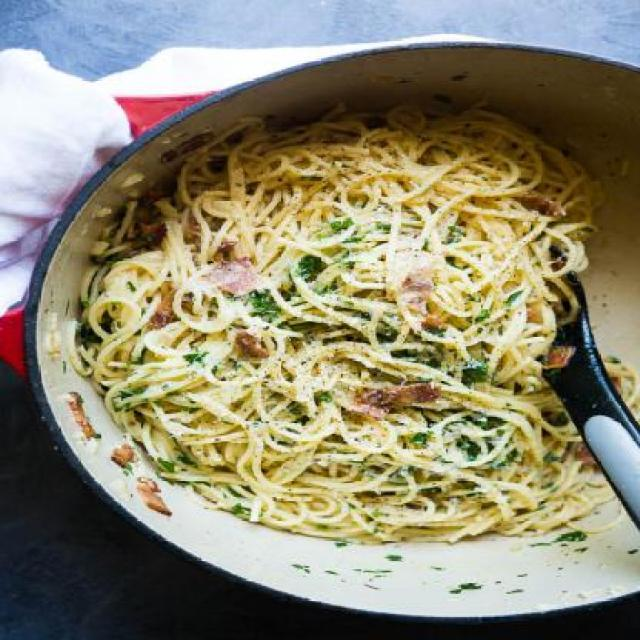Pasta with carbonara sauce: (72, 52, 616, 588)
